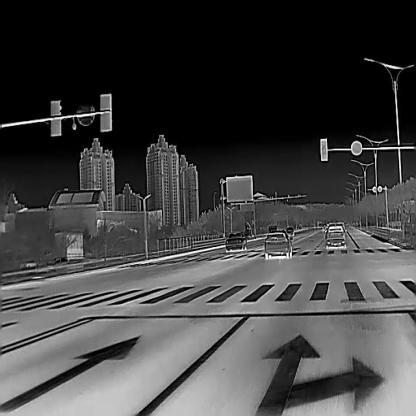car: (264, 229, 293, 258), (325, 223, 346, 249), (225, 232, 247, 250), (285, 226, 293, 235)
